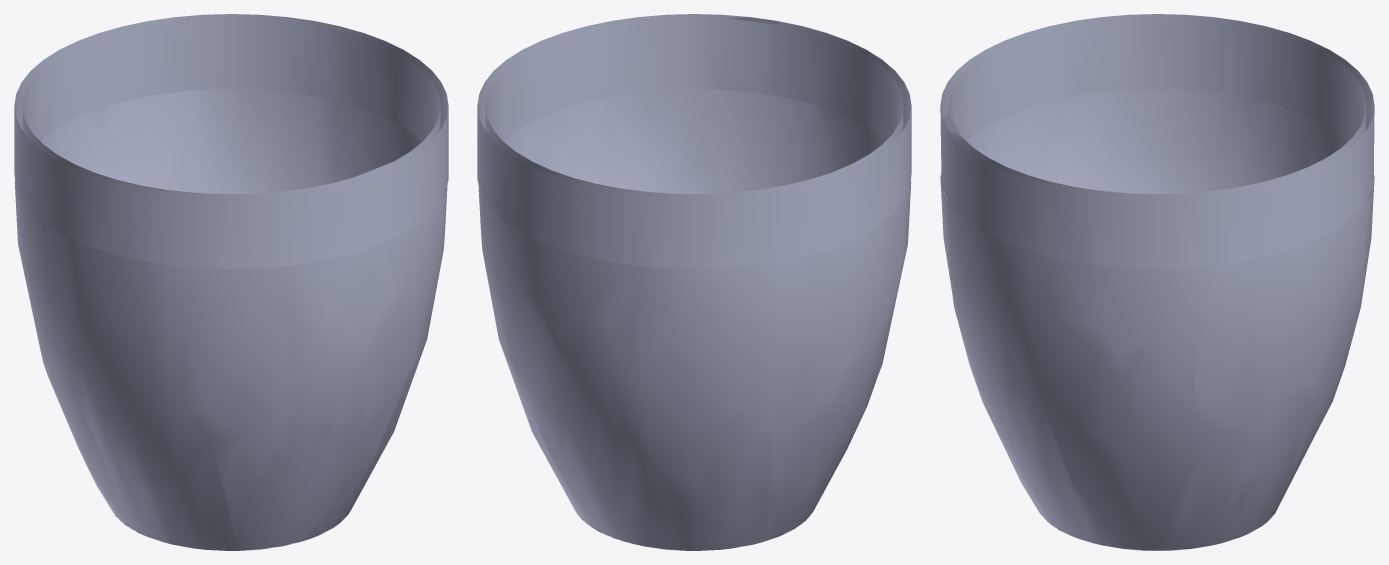
Rendered from subscale_boattail.obj.
3 renders of one model, left to right at view 1: azimuth 30°, elevation 25°; view 2: azimuth 150°, elevation 25°; view 3: azimuth 270°, elevation 25°, orthographic.
Parts seen in each view (by area): view 1: mesh_1_subscale_b.003; view 2: mesh_1_subscale_b.003; view 3: mesh_1_subscale_b.003.
Part boxes in pixels (x1,y1,x2,y2): mesh_1_subscale_b.003: (14, 14, 448, 550); mesh_1_subscale_b.003: (477, 14, 911, 550); mesh_1_subscale_b.003: (940, 14, 1374, 550).
Bounding box in the file's own units: 0.1397 × 0.1397 × 0.1397.
